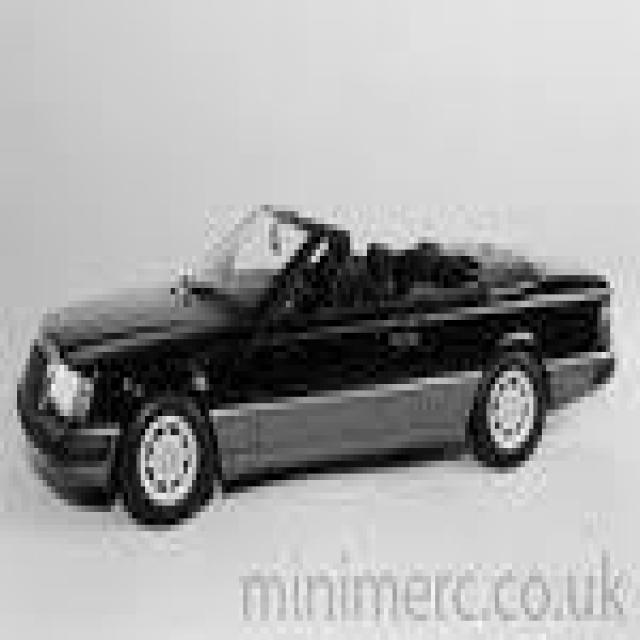car: (13, 198, 614, 525)
